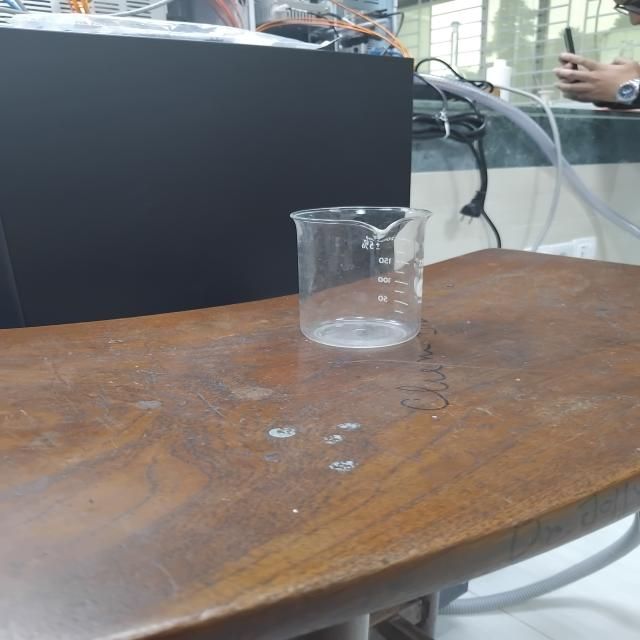Beaker: (254, 165, 458, 362)
